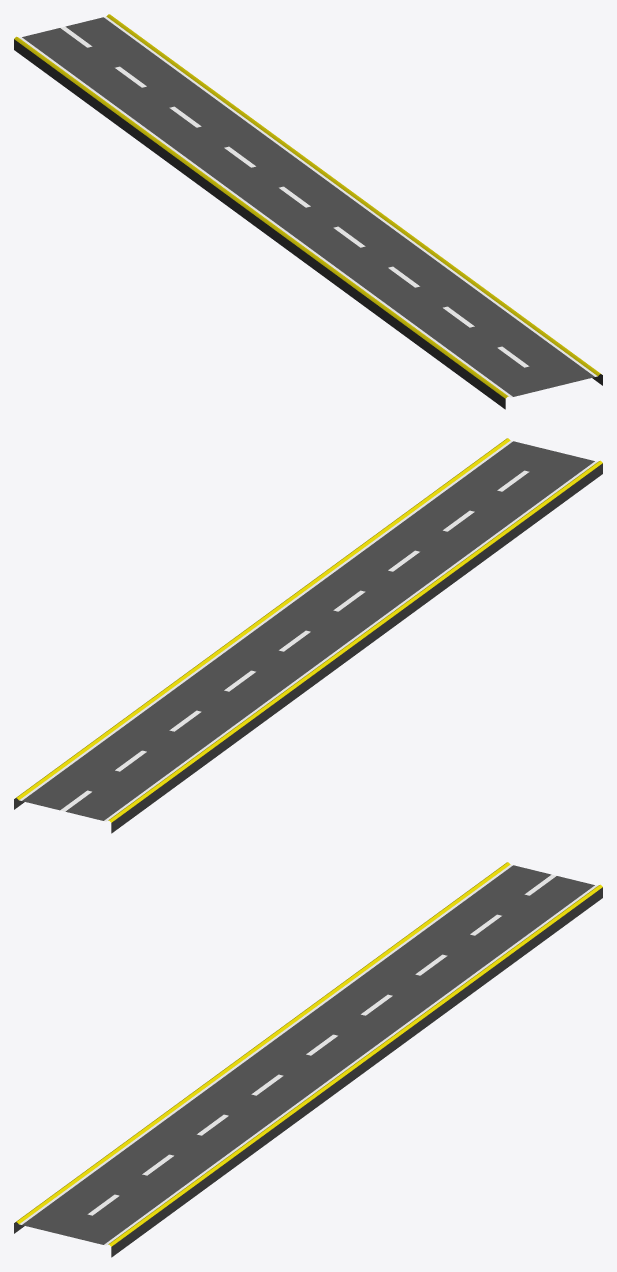
Rendered from yolyaptık.fbx.
3 renders of one model, top to bottom at view 1: azimuth 30°, elevation 25°; view 2: azimuth 150°, elevation 25°; view 3: azimuth 330°, elevation 25°, orthographic.
Parts seen in each view (by area): view 1: Cube.001; view 2: Cube.001; view 3: Cube.001.
Part boxes in pixels (x1,y1,x2,y2): Cube.001: (14, 14, 602, 409); Cube.001: (14, 438, 602, 833); Cube.001: (14, 862, 602, 1257).
Bounding box in the file's own units: 572 × 70.81 × 5000.
1 material, 1 textured.
